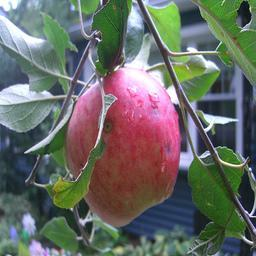apple: (66, 66, 181, 229)
